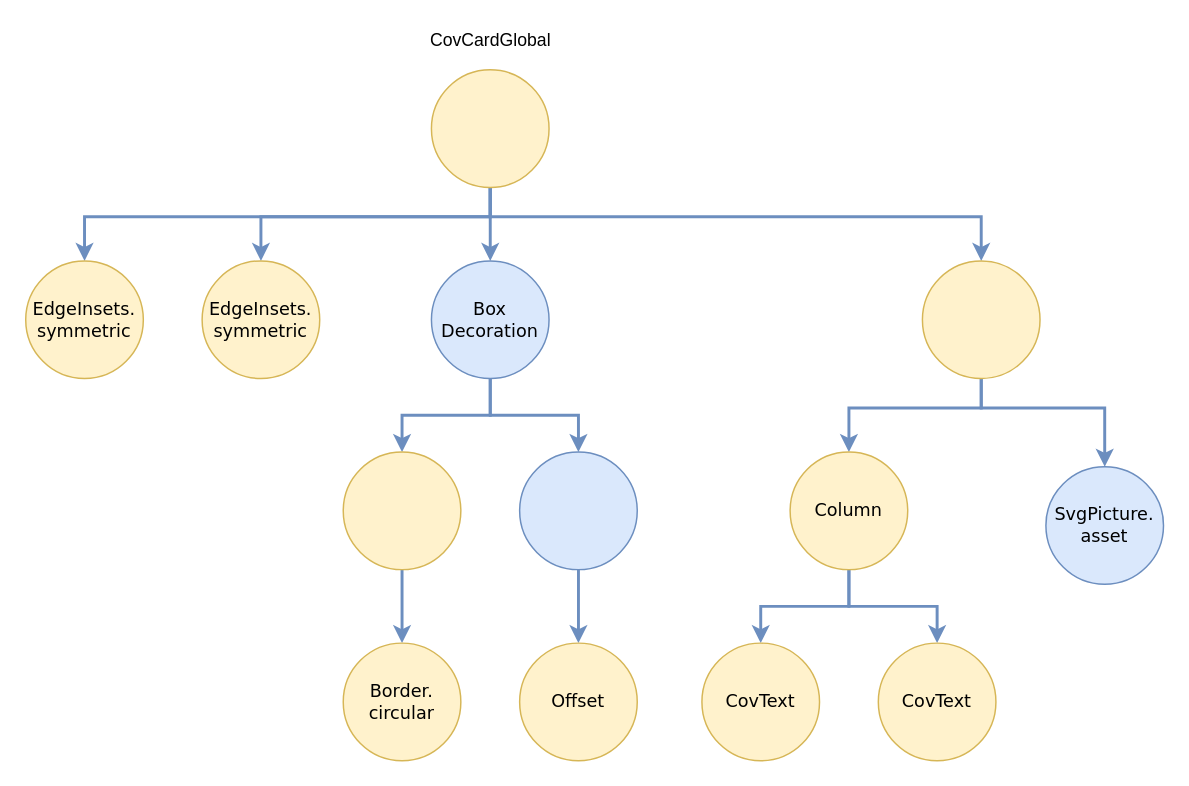
Image size: 1189x786. Some labels were removed from this diagram. Here are the shapes that lost their labels. From the top down, the box of each, then its label:
(430, 68, 549, 187): Container
(921, 259, 1040, 379): Row
(342, 451, 461, 570): Border Radius.all
(518, 451, 637, 570): Box Shadow
